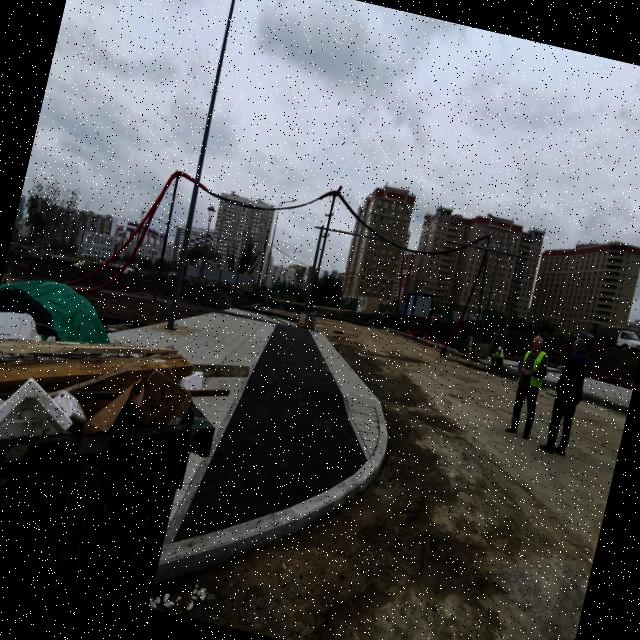Helmet: (497, 346, 504, 355)
NoHelmet: (529, 334, 546, 355), (571, 337, 588, 357)
